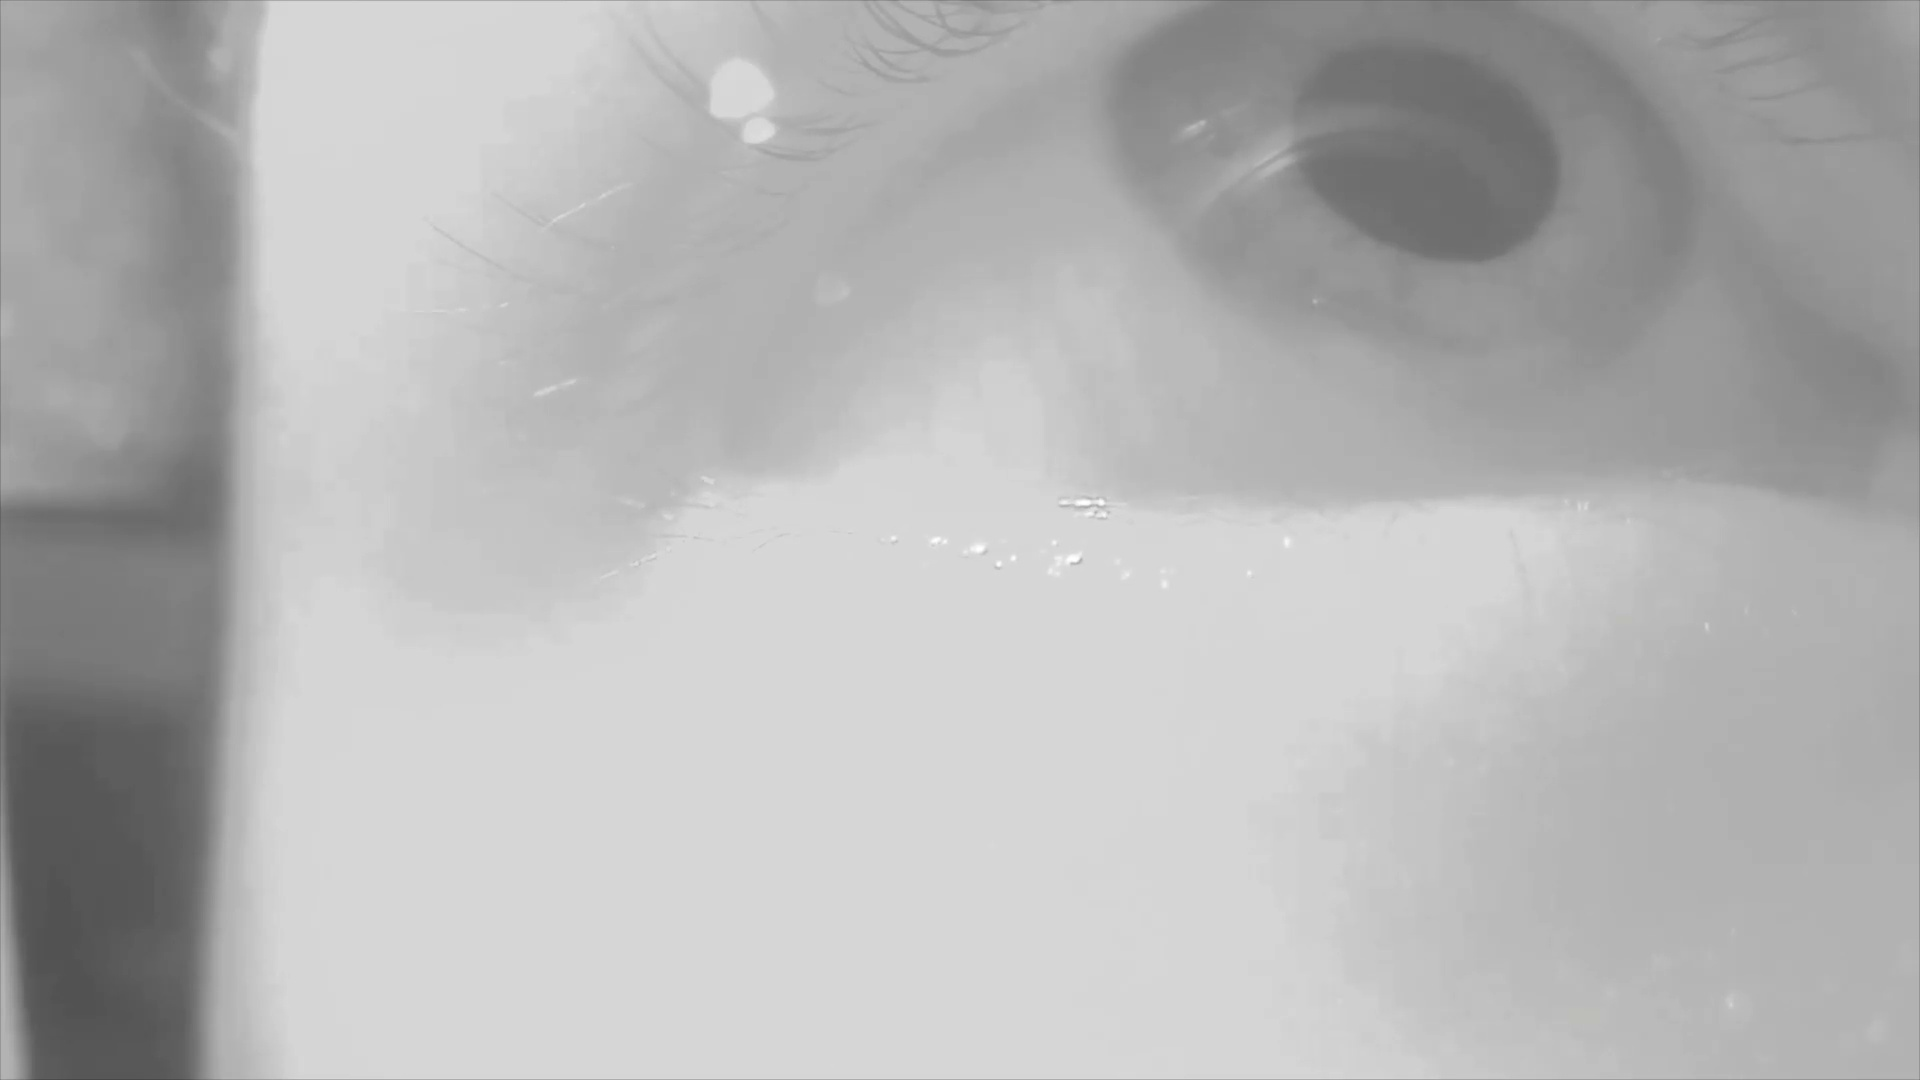pupil: (1289, 36, 1563, 270)
